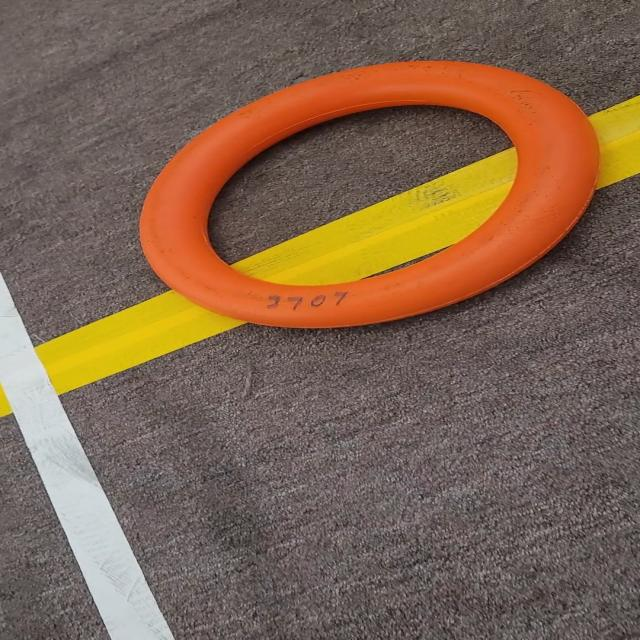note: (128, 50, 614, 346)
